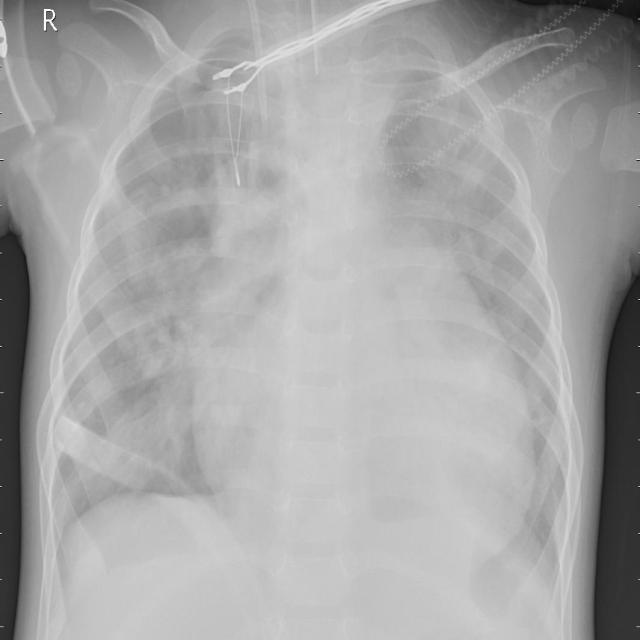high-pneumonia: (383, 91, 582, 575), (54, 61, 224, 520)
